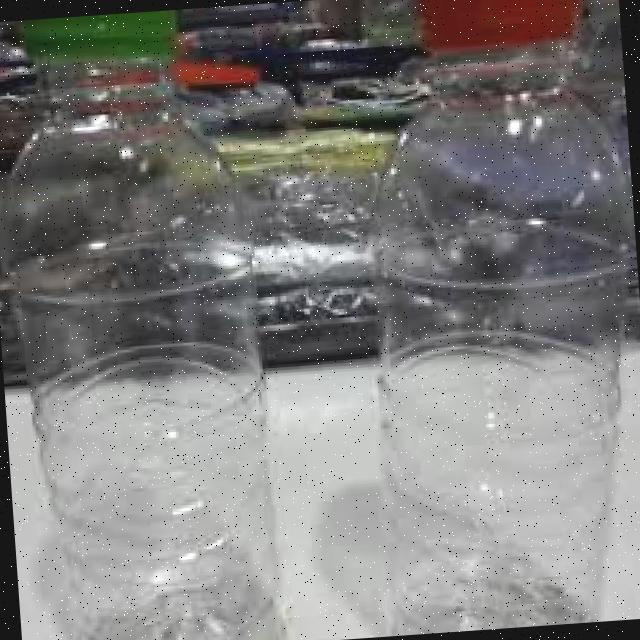bottle: (0, 10, 303, 640), (352, 0, 640, 633)
